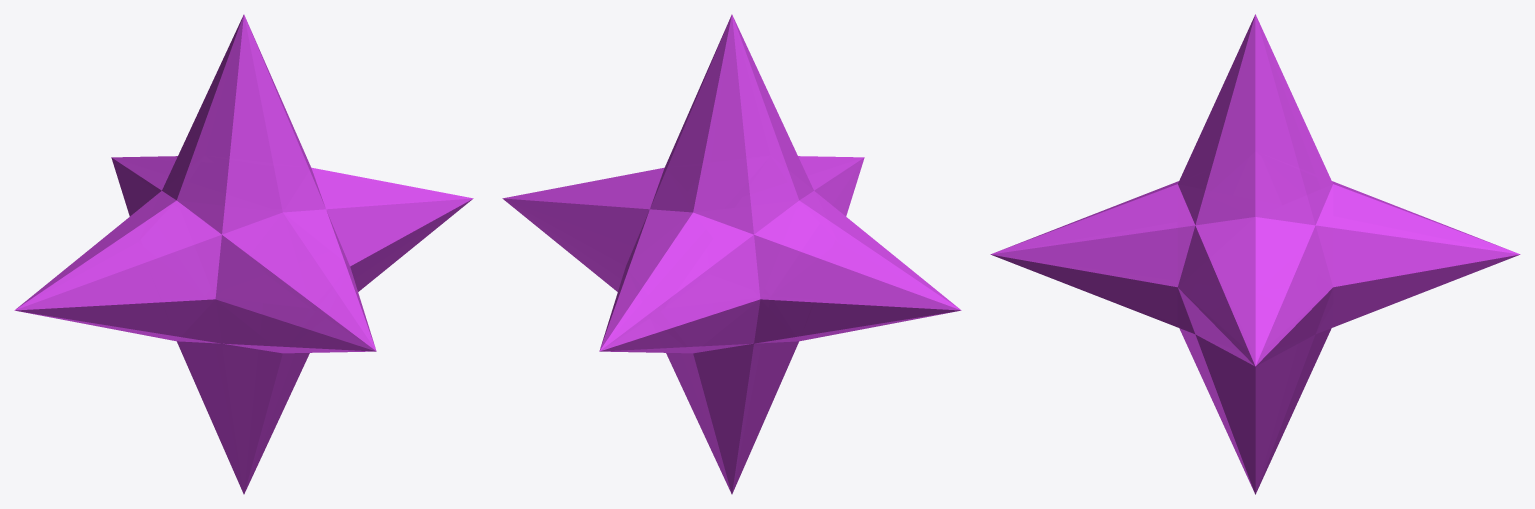
Rendered from SmallRhombihexacron.obj.
3 views of the same model, side by side, from view 1: azimuth 30°, elevation 25°; view 2: azimuth 150°, elevation 25°; view 3: azimuth 270°, elevation 25° (orthographic).
Size of the model in its own units: 6.83 by 6.83 by 6.83.
